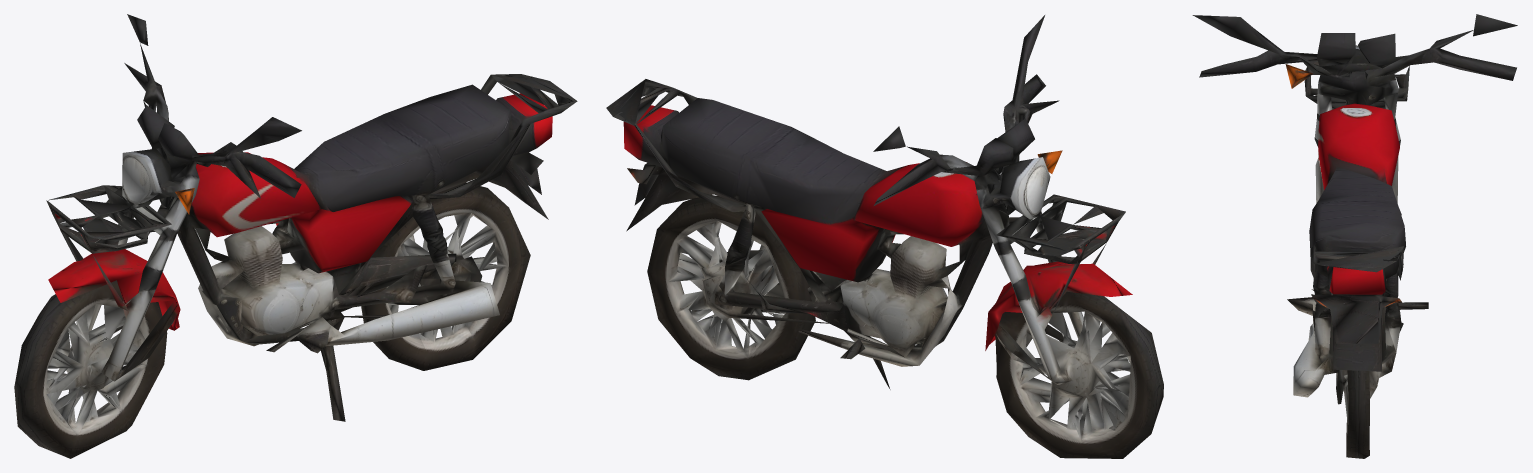
The model's file is okada.glb.
3 renders of one model, left to right at view 1: azimuth 30°, elevation 25°; view 2: azimuth 150°, elevation 25°; view 3: azimuth 270°, elevation 25°, orthographic. The views are drawn at different scales.
Parts seen in each view (by area): view 1: tripo_node_26a76096-1853-4baf-98dc-dac1cc384b17; view 2: tripo_node_26a76096-1853-4baf-98dc-dac1cc384b17; view 3: tripo_node_26a76096-1853-4baf-98dc-dac1cc384b17.
Boxes of the visible parts, box(x1,y1,x2,y2) form: tripo_node_26a76096-1853-4baf-98dc-dac1cc384b17: box(14, 14, 577, 458); tripo_node_26a76096-1853-4baf-98dc-dac1cc384b17: box(606, 15, 1163, 458); tripo_node_26a76096-1853-4baf-98dc-dac1cc384b17: box(1192, 14, 1517, 458).
Bounding box in the file's own units: 1 × 0.6265 × 0.5547.
1 material, 1 textured.
